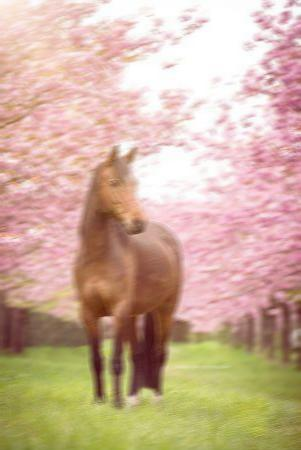horse: (70, 143, 183, 409)
